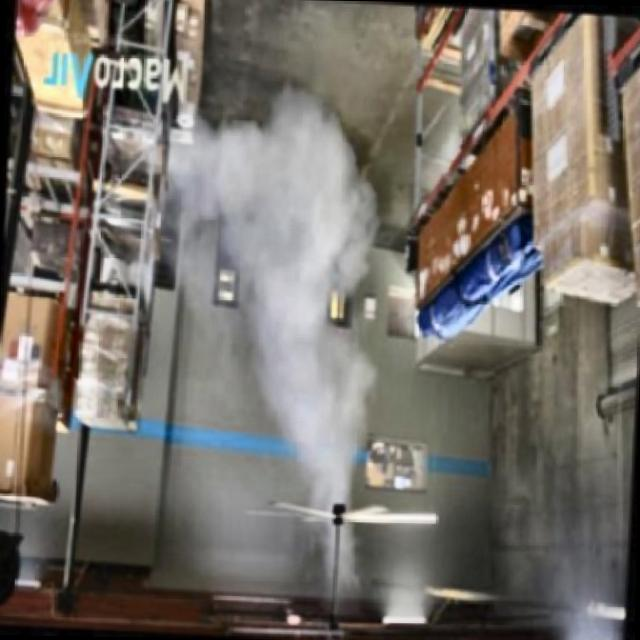smoke: (202, 92, 376, 507)
